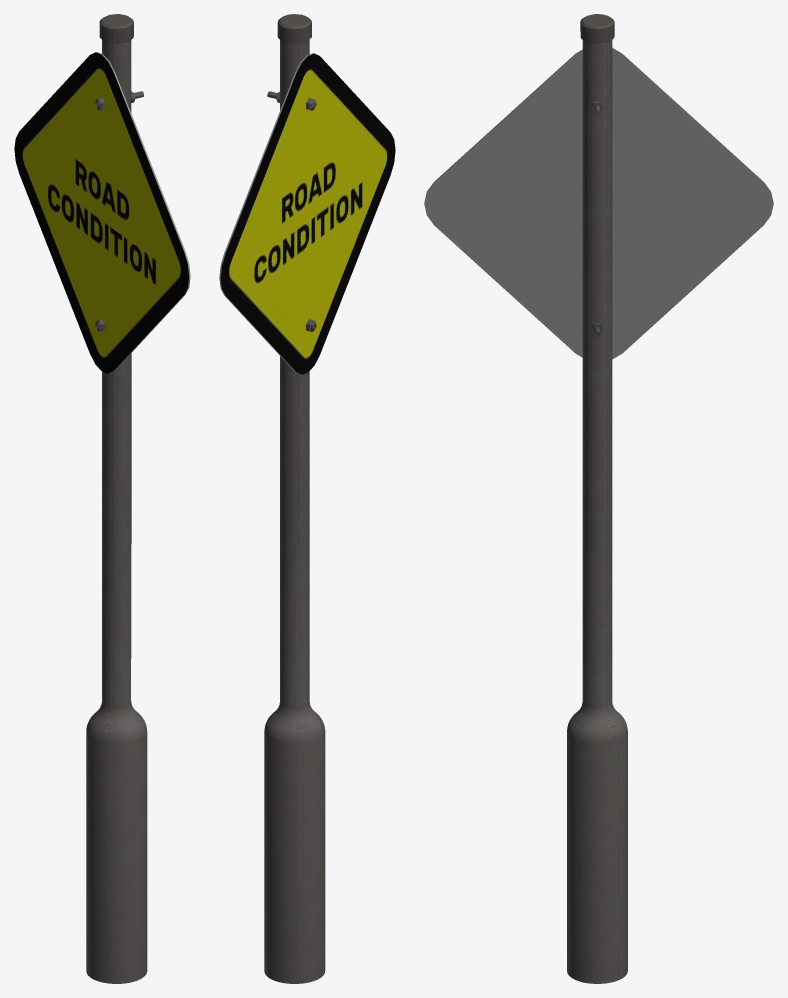
The model's file is sign-45-sqare-tilted.glb.
3 views of the same model, side by side, from view 1: azimuth 30°, elevation 25°; view 2: azimuth 150°, elevation 25°; view 3: azimuth 270°, elevation 25° (orthographic).
Parts seen in each view (by area): view 1: 45 sqare tilted; view 2: 45 sqare tilted; view 3: 45 sqare tilted.
Boxes of the visible parts, left/top/right/bottom form: 45 sqare tilted: left=14, top=14, right=190, bottom=983; 45 sqare tilted: left=219, top=14, right=395, bottom=983; 45 sqare tilted: left=424, top=14, right=773, bottom=983.
Size of the model in its own units: 18.29 by 315 by 105.
Materials: 1 (1 with a texture image).
